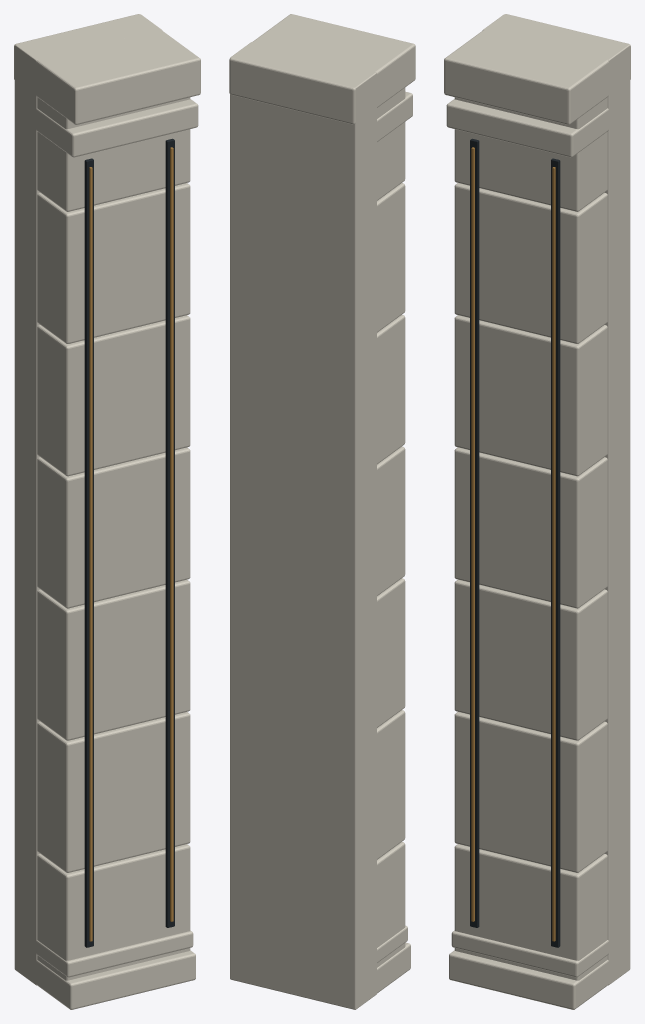
File: SM_Aurelion_KIT_EndReturn_1x7.fbx
The picture shows the model from 3 angles, left to right: view 1: azimuth 30°, elevation 25°; view 2: azimuth 150°, elevation 25°; view 3: azimuth 330°, elevation 25°; orthographic projection.
Parts seen in each view (by area): view 1: SM_Aurelion_KIT_EndReturn_1x7; view 2: SM_Aurelion_KIT_EndReturn_1x7; view 3: SM_Aurelion_KIT_EndReturn_1x7.
Part boxes in pixels (left/top/right/bottom): SM_Aurelion_KIT_EndReturn_1x7: left=14, top=14, right=200, bottom=1009; SM_Aurelion_KIT_EndReturn_1x7: left=229, top=14, right=415, bottom=1009; SM_Aurelion_KIT_EndReturn_1x7: left=444, top=14, right=630, bottom=1009.
Size of the model in its own units: 100 by 85 by 700.
